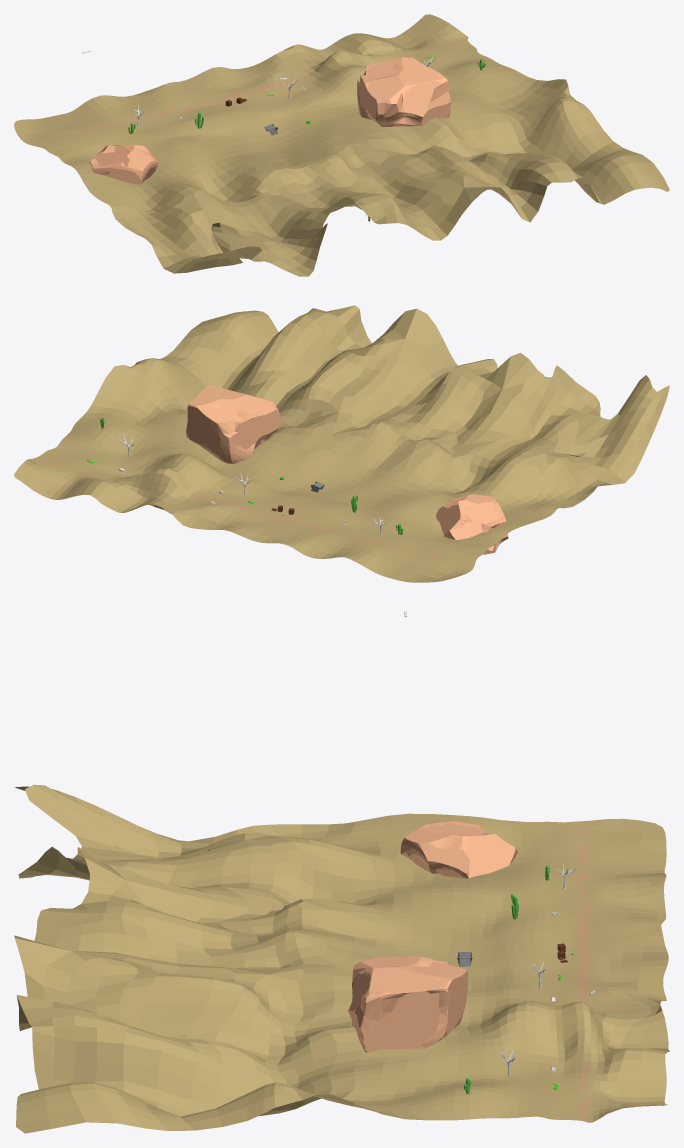
Rendered from A boy and his cross OPENING REWORK.fbx.
The picture shows the model from 3 angles, top to bottom: view 1: azimuth 30°, elevation 25°; view 2: azimuth 150°, elevation 25°; view 3: azimuth 270°, elevation 25°; orthographic projection. The views are drawn at different scales.
Visible parts, largest first — view 1: Plane, Cube.005, Cube.006, Cube.002; view 2: Plane, Cube.005, Cube.006, Cube.002; view 3: Plane, Cube.005, Cube.006, Cube.002.
Part boxes in pixels (left/top/right/bottom): Plane: left=14, top=14, right=669, bottom=276; Cube.005: left=357, top=57, right=450, bottom=126; Cube.006: left=89, top=144, right=158, bottom=184; Cube.002: left=38, top=38, right=467, bottom=144; Plane: left=14, top=305, right=669, bottom=582; Cube.005: left=186, top=384, right=280, bottom=464; Cube.006: left=436, top=494, right=508, bottom=554; Cube.002: left=31, top=458, right=468, bottom=565; Plane: left=14, top=784, right=669, bottom=1133; Cube.005: left=348, top=956, right=467, bottom=1052; Cube.006: left=400, top=821, right=517, bottom=878; Cube.002: left=576, top=825, right=590, bottom=1121.
Bounding box in the file's own units: 36684 × 13163 × 32229.
